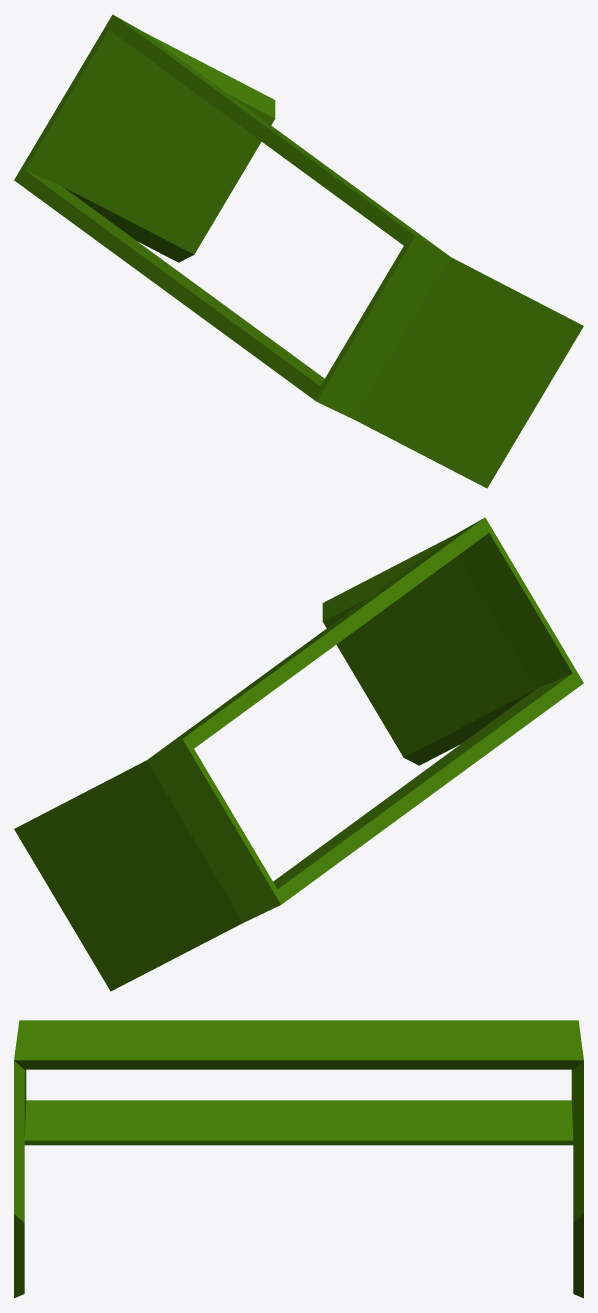
The model's file is Code_Cylinder_Vert_Metal.fbx.
The picture shows the model from 3 angles, top to bottom: view 1: azimuth 30°, elevation 25°; view 2: azimuth 150°, elevation 25°; view 3: azimuth 270°, elevation 25°; orthographic projection. The views are drawn at different scales.
Parts seen in each view (by area): view 1: Code_Cylinder_Vert_Metal; view 2: Code_Cylinder_Vert_Metal; view 3: Code_Cylinder_Vert_Metal.
Part boxes in pixels (x1,y1,x2,y2): Code_Cylinder_Vert_Metal: [14, 14, 583, 488]; Code_Cylinder_Vert_Metal: [14, 517, 583, 991]; Code_Cylinder_Vert_Metal: [14, 1020, 583, 1298].
Bounding box in the file's own units: 12.29 × 11.88 × 24.85.
